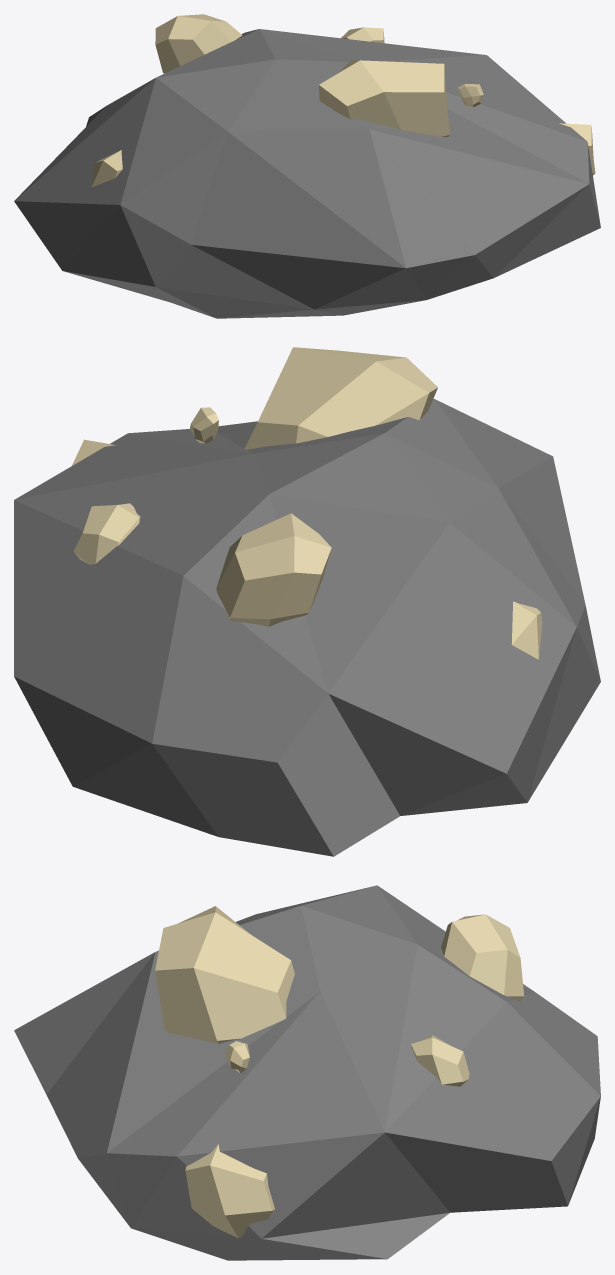
Rendered from minerai fer.fbx.
3 views of the same model, one above another, from view 1: azimuth 30°, elevation 25°; view 2: azimuth 150°, elevation 25°; view 3: azimuth 270°, elevation 25° (orthographic). The views are drawn at different scales.
Parts seen in each view (by area): view 1: Icosphere, Cube.001, Cube, Cube.003, Cube.004, Cube.005, Cube.002; view 2: Icosphere, Cube.001, Cube, Cube.004, Cube.003, Cube.005; view 3: Icosphere, Cube.001, Cube.002, Cube, Cube.004, Cube.005.
Boxes of the visible parts, box(x1,y1,x2,y2) form: Icosphere: box(14, 29, 600, 318); Cube.001: box(319, 60, 450, 136); Cube: box(155, 14, 242, 73); Cube.003: box(91, 150, 122, 187); Cube.004: box(341, 27, 384, 43); Cube.005: box(457, 84, 483, 107); Cube.002: box(559, 123, 595, 174); Icosphere: box(14, 399, 600, 856); Cube.001: box(244, 347, 437, 449); Cube: box(216, 513, 331, 626); Cube.004: box(73, 503, 140, 564); Cube.003: box(511, 601, 542, 659); Cube.005: box(190, 407, 218, 443); Icosphere: box(14, 885, 600, 1260); Cube.001: box(155, 906, 294, 1044); Cube.002: box(185, 1144, 274, 1238); Cube: box(441, 914, 524, 1001); Cube.004: box(411, 1035, 469, 1086); Cube.005: box(225, 1041, 249, 1073).
Size of the model in its own units: 61.77 by 32.3 by 61.88.
